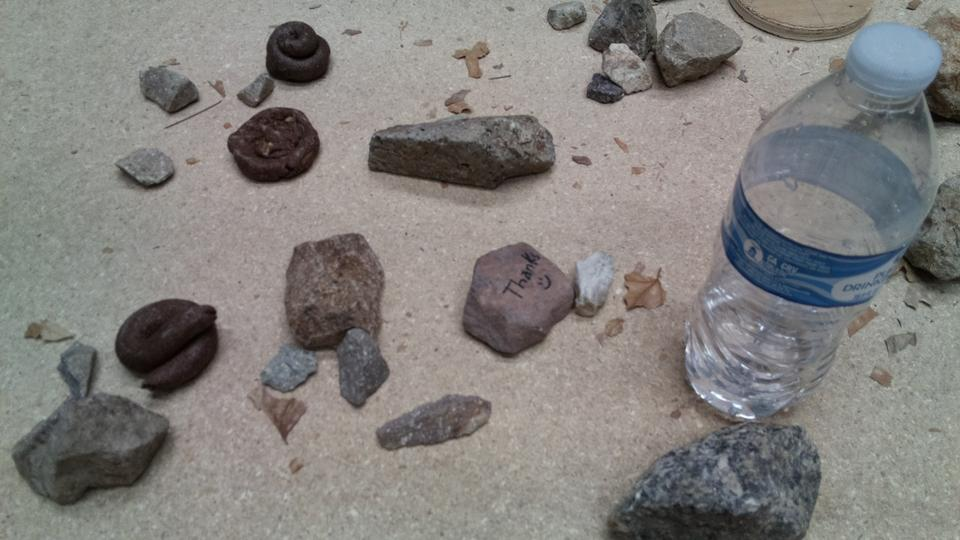poop: (114, 295, 217, 399), (226, 105, 324, 185), (265, 19, 333, 86)
